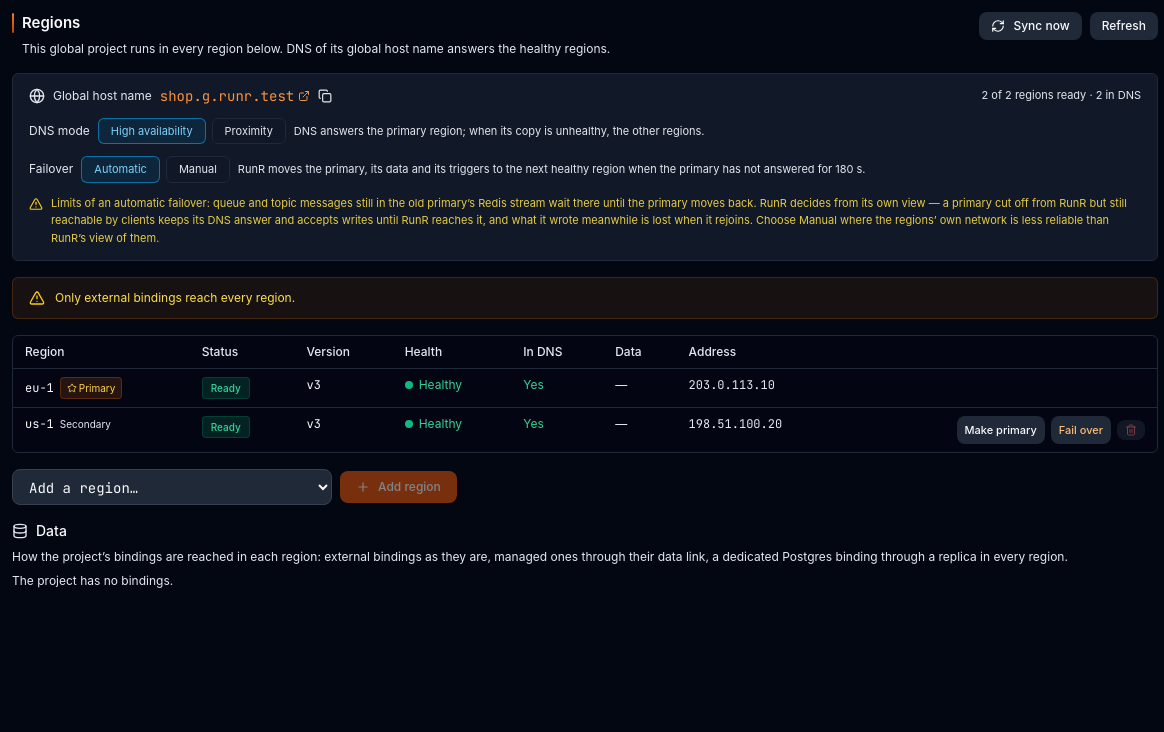
Test: Project → Regions (global project) › shows the API error of a refused change
Click the button with test id "global-make-primary" at (1001, 430), box x1=956 y1=416 x2=1045 y2=444
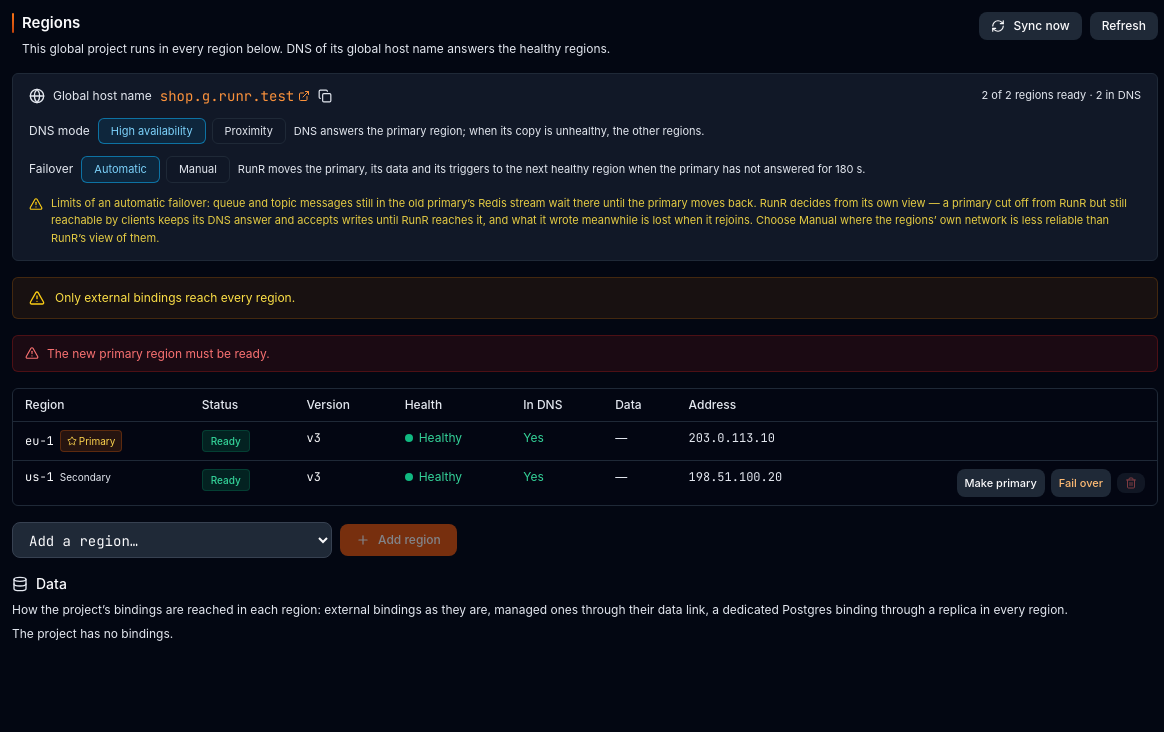
Expected: the element with test id "global-error" reads "The new primary region must be ready.", x1=47 y1=346 x2=270 y2=361
